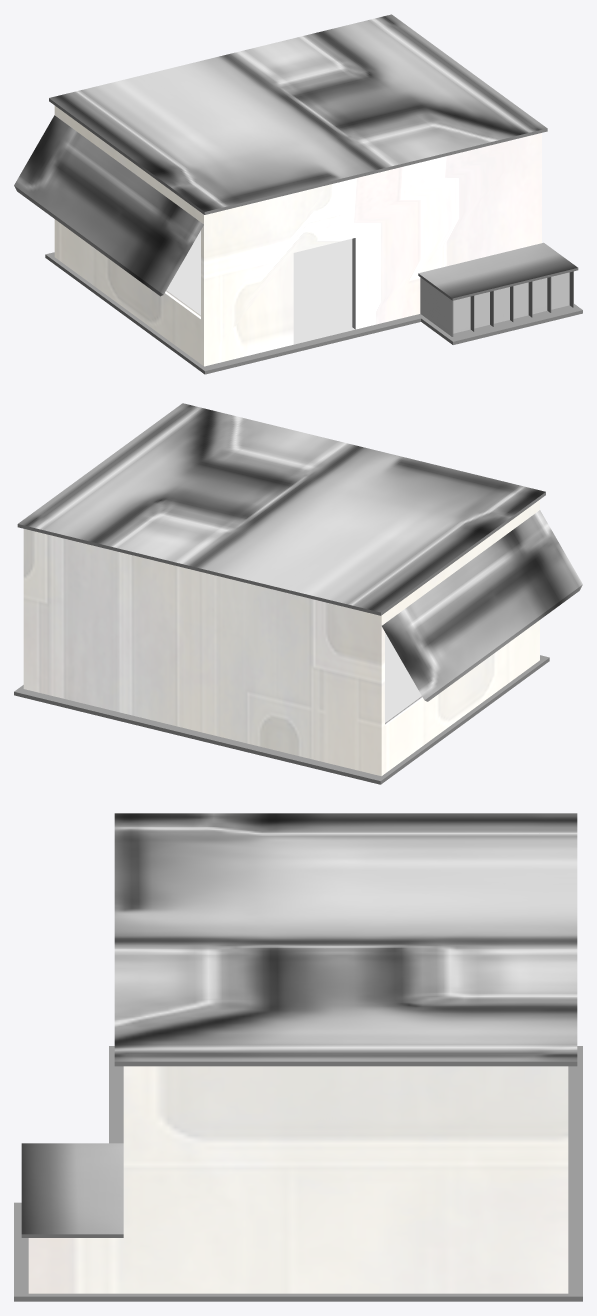
The model's file is TiendaR.fbx.
3 views of the same model, one above another, from view 1: azimuth 30°, elevation 25°; view 2: azimuth 150°, elevation 25°; view 3: azimuth 270°, elevation 25° (orthographic). The views are drawn at different scales.
Parts seen in each view (by area): view 1: Tienda; view 2: Tienda; view 3: Tienda.
Boxes of the visible parts, x1,y1,x2,y2 form: Tienda: (14,14,582,374); Tienda: (14,403,582,784); Tienda: (14,813,582,1301).
Bounding box in the file's own units: 1117 × 449 × 969.
Materials: 10 (5 with a texture image).
